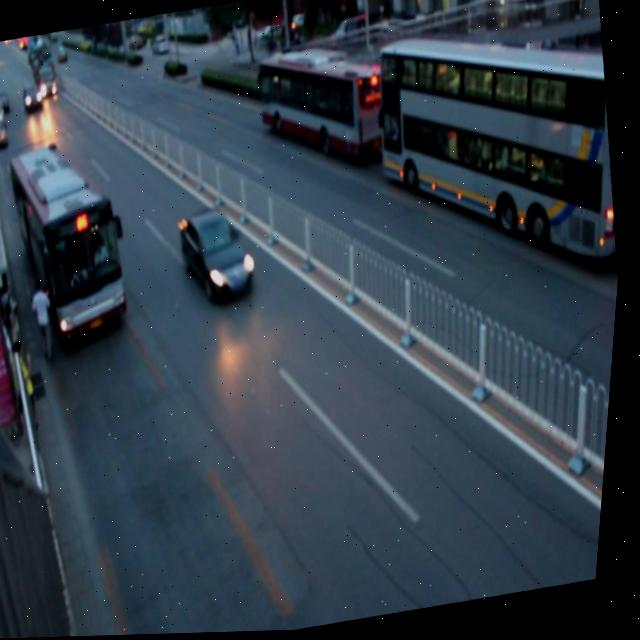car: (177, 206, 262, 299), (0, 117, 13, 149)
van: (365, 12, 635, 296), (0, 140, 143, 345), (251, 41, 399, 177)
